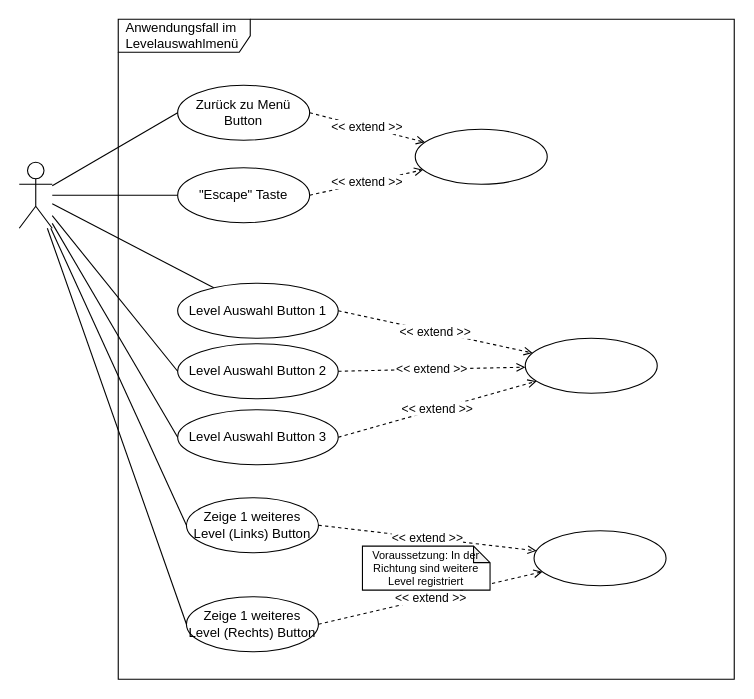
This 754x699 diagram has some shape labels left out. The shapes that lost their labels are listed below. From the top down, each one's centre as x and y in pixels, then its label:
(x=480, y=156): zu Menü
(x=35, y=194): Actor
(x=590, y=365): Spiele ausgewähltes Level
(x=599, y=558): Weiteres Level angezeigt
